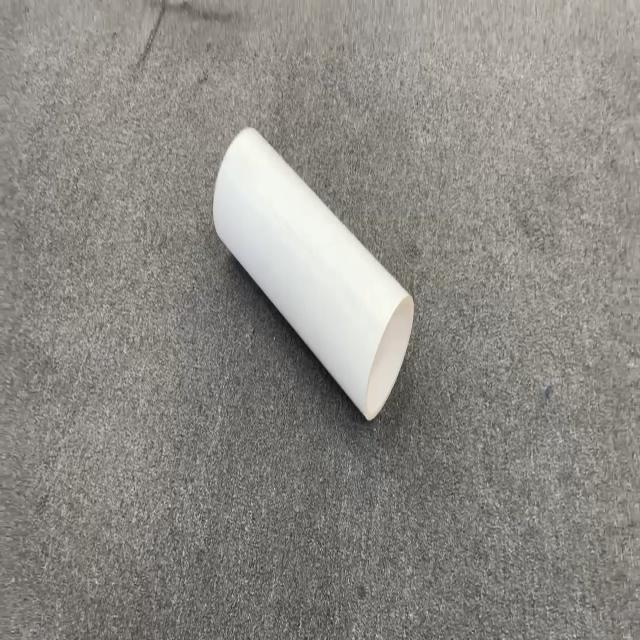coral: (212, 125, 414, 422)
